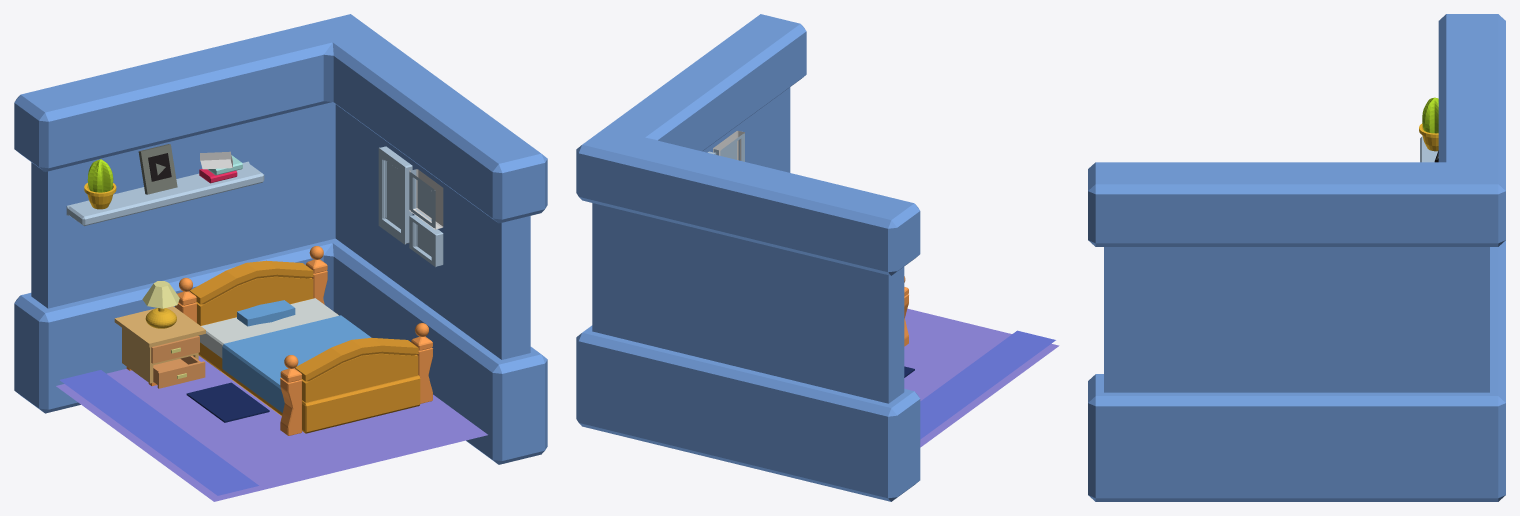
File: room.glb
The picture shows the model from 3 angles, left to right: view 1: azimuth 30°, elevation 25°; view 2: azimuth 150°, elevation 25°; view 3: azimuth 270°, elevation 25°; orthographic projection. The views are drawn at different scales.
Visible parts, largest first — view 1: Cube, Plane, Plane.001, Plane.016, Plane.003, Plane.004, Cube.005, Plane.002, Plane.006, Cube.001, Plane.011, Plane.009 (+7 smaller); view 2: Cube, Plane, Plane.001; view 3: Cube, Sphere.006.
Boxes of the visible parts, x1,y1,x2,y2 form: Cube: (14, 14, 547, 464); Plane: (56, 355, 487, 501); Plane.001: (60, 370, 258, 495); Plane.016: (222, 315, 370, 412); Plane.003: (295, 337, 418, 402); Plane.004: (189, 260, 313, 325); Cube.005: (378, 146, 443, 267); Plane.002: (198, 298, 420, 433); Plane.006: (175, 246, 432, 435); Cube.001: (66, 161, 264, 226); Plane.011: (114, 306, 205, 383); Plane.009: (199, 298, 338, 358); Cube: (576, 14, 920, 501); Plane: (904, 308, 1059, 447); Plane.001: (920, 330, 1055, 439); Cube: (1088, 14, 1505, 501); Sphere.006: (1422, 97, 1438, 133).
Bounding box in the file's own units: 2.38 × 2 × 2.38.
